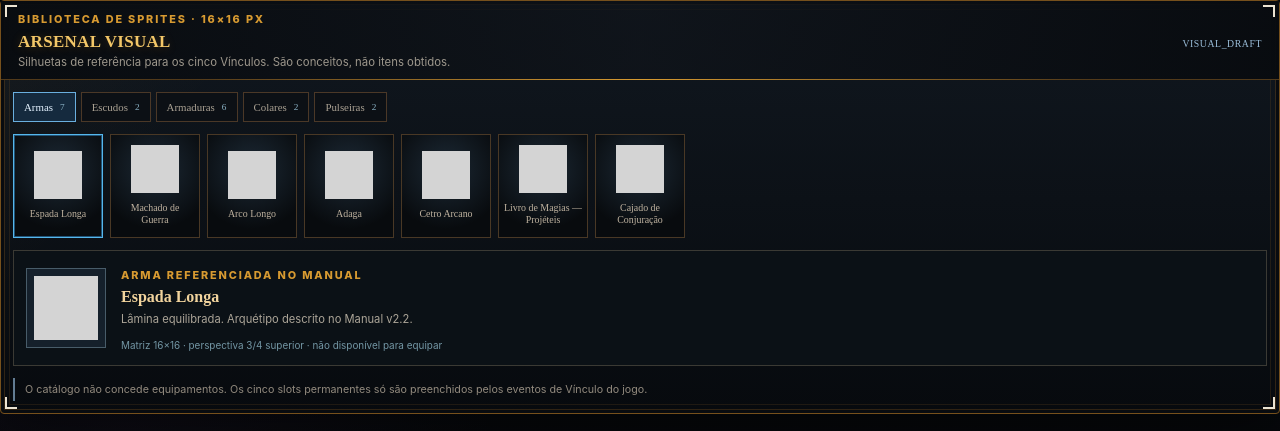
Test: catálogo de equipamento visual › mostra sete armas, e troca entre famílias de vínculo sem equipar
Expected: the button "Machado de Guerra" is shown, [110, 134, 200, 238]
Click the button "Armaduras 6": [196, 107] box [156, 92, 238, 122]
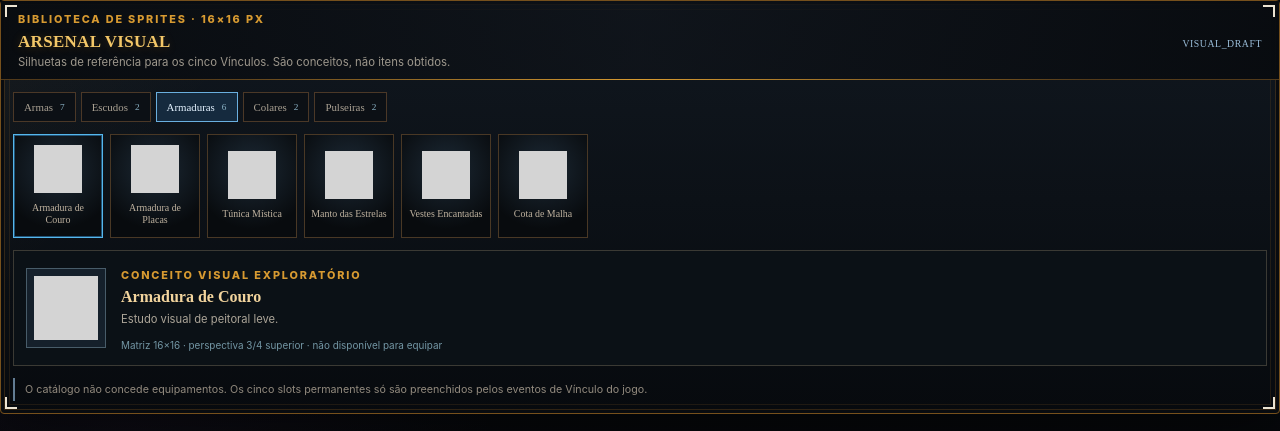
Expected: the button "Armadura de Couro" is shown, [13, 134, 103, 238]
Expected: the button "Machado de Guerra" is gone
Click the button "Armadura de Placas": [155, 186] box [110, 134, 200, 238]
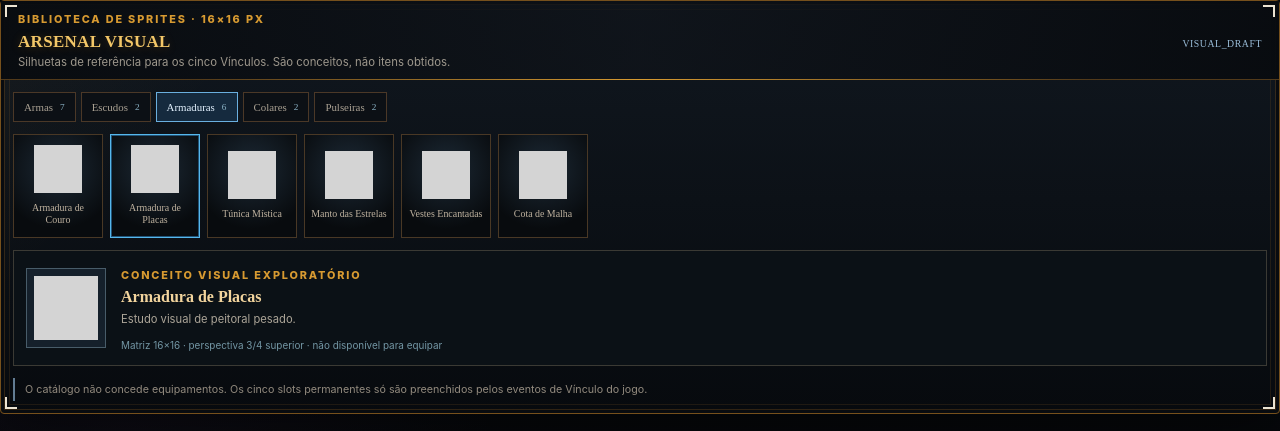
Expected: the text "Estudo visual de peitoral pesado." is shown, [121, 312, 296, 326]
